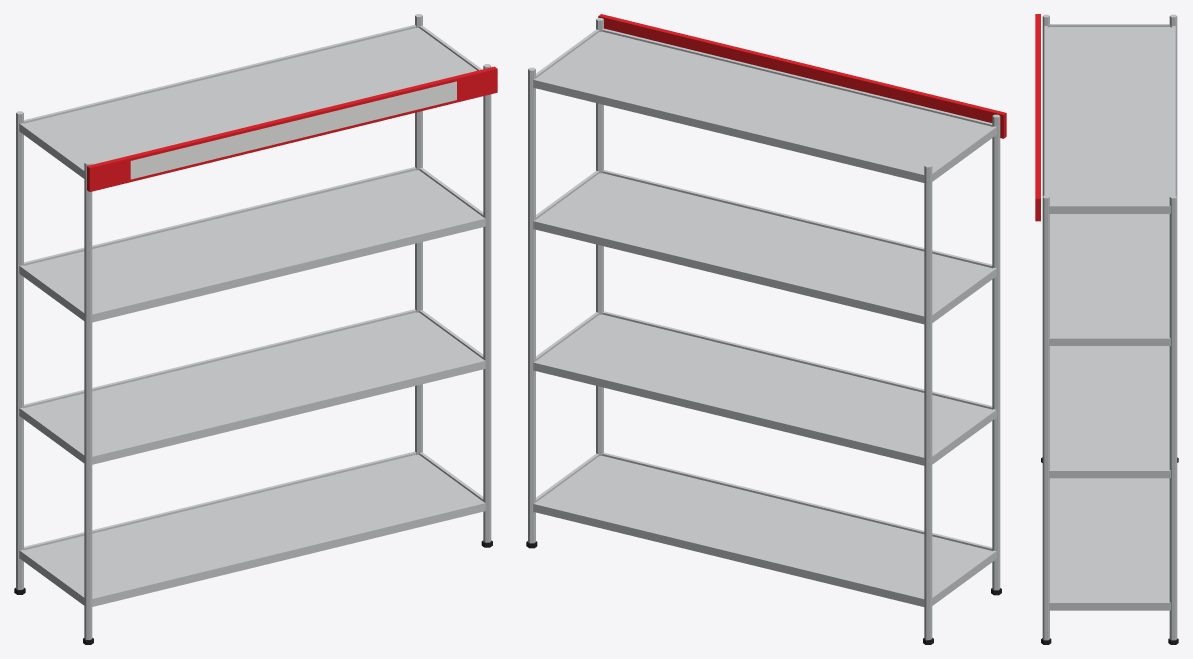
File: dispatch-rack.lod1.glb
The picture shows the model from 3 angles, left to right: view 1: azimuth 30°, elevation 25°; view 2: azimuth 150°, elevation 25°; view 3: azimuth 270°, elevation 25°; orthographic projection. The views are drawn at different scales.
Visible parts, largest first — view 1: BODY, LABEL; view 2: BODY; view 3: BODY.
Part boxes in pixels (x1=…): BODY: x1=14, y1=14, x2=497, y2=644; LABEL: x1=130, y1=81, x2=456, y2=179; BODY: x1=526, y1=14, x2=1006, y2=644; BODY: x1=1035, y1=14, x2=1178, y2=644.
Size of the model in its own units: 1.6 by 1.8 by 0.5239.
